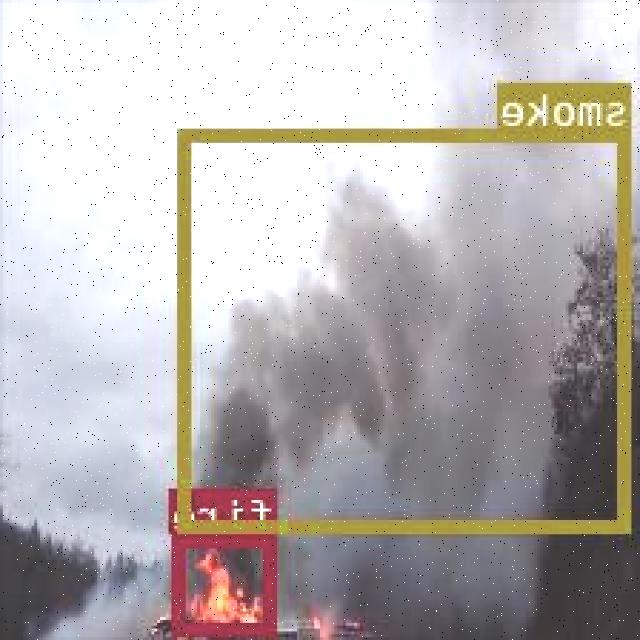fire: (176, 533, 278, 632)
smoke: (182, 126, 634, 530)
